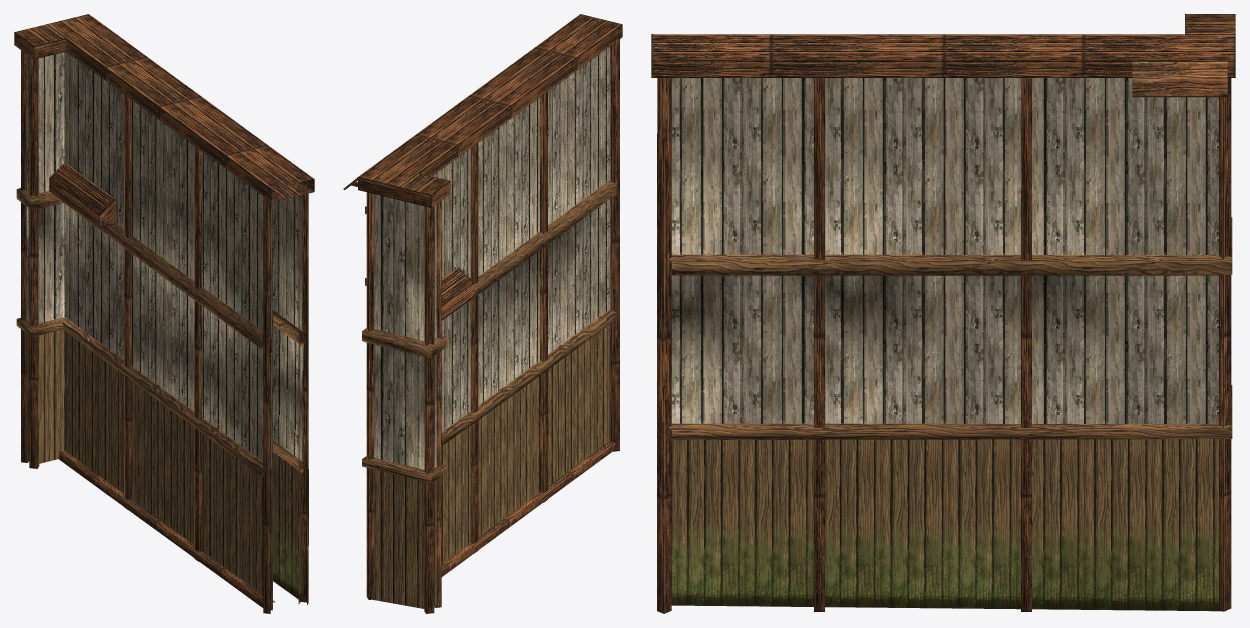
The model's file is LAKETOWN_WAREHOUSE3_PS_WH3_CENTER5757__GX.fbx.
The picture shows the model from 3 angles, left to right: view 1: azimuth 30°, elevation 25°; view 2: azimuth 150°, elevation 25°; view 3: azimuth 270°, elevation 25°; orthographic projection. The views are drawn at different scales.
Parts seen in each view (by area): view 1: LAKETOWN_WAREHOUSE3_PS_WH3_CENTER5757__GX; view 2: LAKETOWN_WAREHOUSE3_PS_WH3_CENTER5757__GX; view 3: LAKETOWN_WAREHOUSE3_PS_WH3_CENTER5757__GX.
Part boxes in pixels (bbox=[...]): LAKETOWN_WAREHOUSE3_PS_WH3_CENTER5757__GX: bbox=[14, 14, 314, 613]; LAKETOWN_WAREHOUSE3_PS_WH3_CENTER5757__GX: bbox=[343, 14, 622, 613]; LAKETOWN_WAREHOUSE3_PS_WH3_CENTER5757__GX: bbox=[651, 14, 1235, 613].
Bounding box in the file's own units: 29893 × 132382 × 126396.
7 materials, 7 textured.
